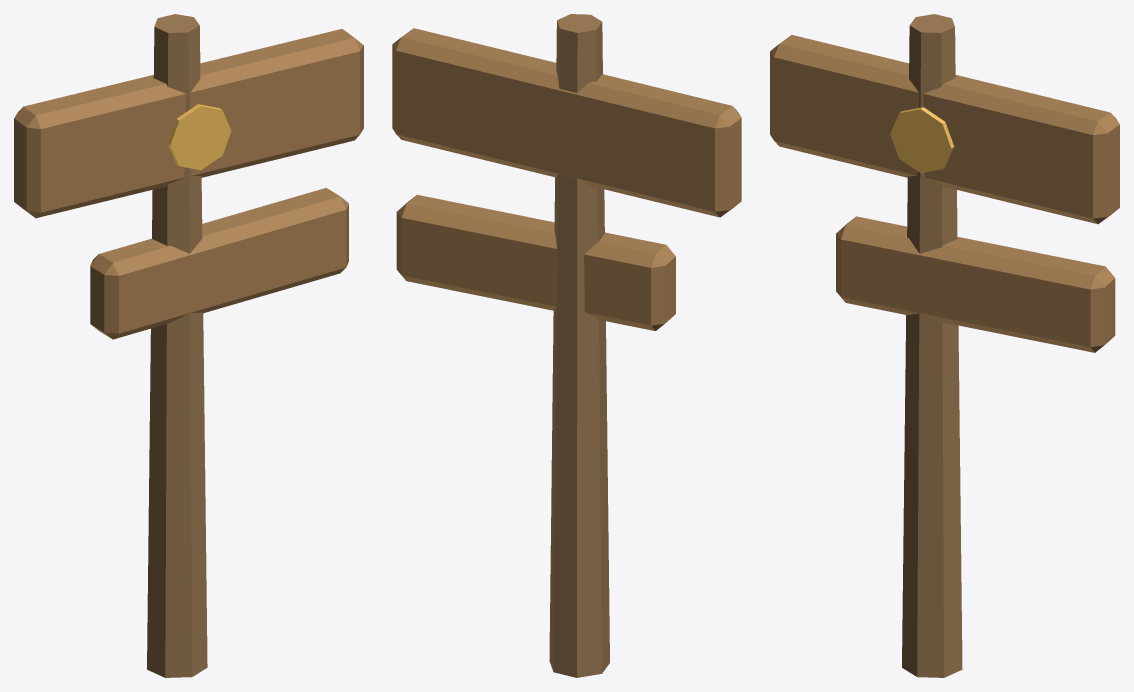
The model's file is enfeite_placa.glb.
3 renders of one model, left to right at view 1: azimuth 30°, elevation 25°; view 2: azimuth 150°, elevation 25°; view 3: azimuth 330°, elevation 25°, orthographic.
Parts seen in each view (by area): view 1: deserto_enfeite_placa; view 2: deserto_enfeite_placa; view 3: deserto_enfeite_placa.
Part boxes in pixels (x1,y1,x2,y2): deserto_enfeite_placa: [14, 14, 363, 677]; deserto_enfeite_placa: [392, 14, 741, 677]; deserto_enfeite_placa: [770, 14, 1119, 677].
Bounding box in the file's own units: 0.55 × 1 × 0.099.
